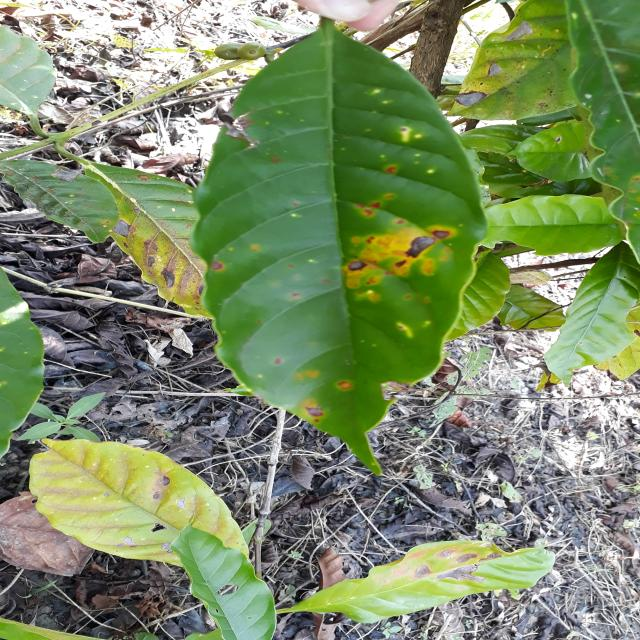Enfermedad-Roya: (191, 21, 515, 476)
